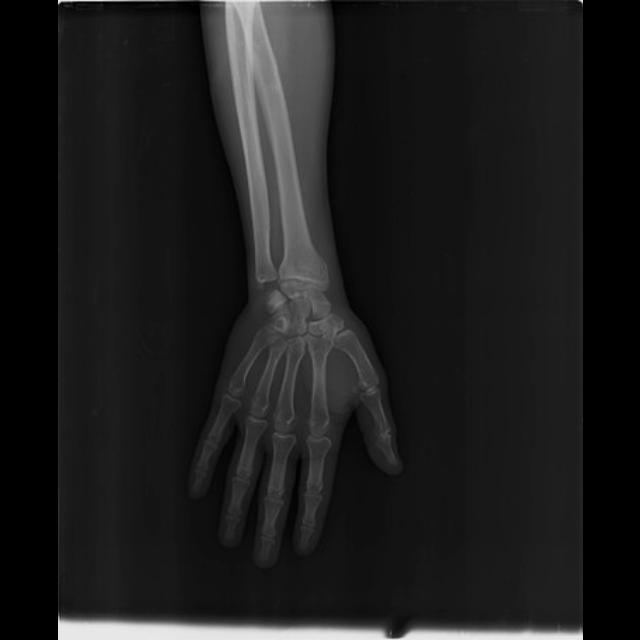Fracture: (303, 257, 333, 294)
